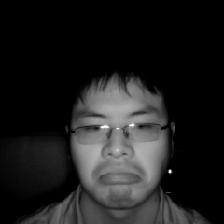sad: (57, 61, 178, 210)
